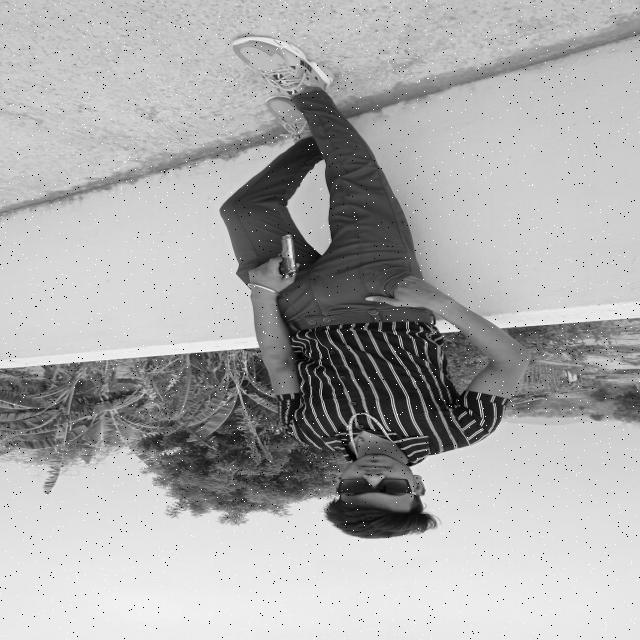gun: (239, 228, 308, 291)
